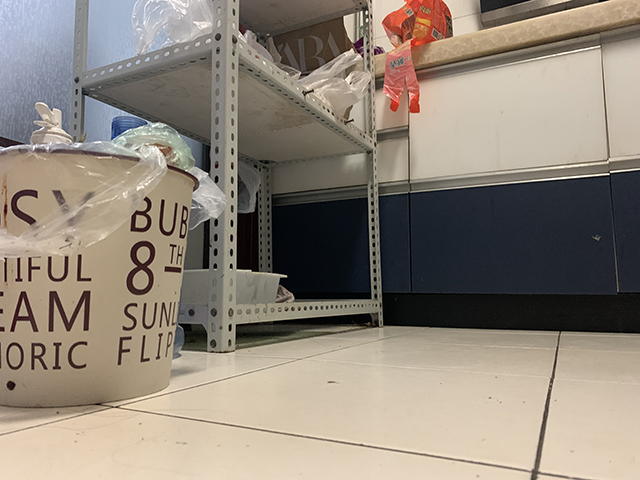cabinet: (370, 1, 640, 334)
trashcan: (1, 145, 202, 410)
